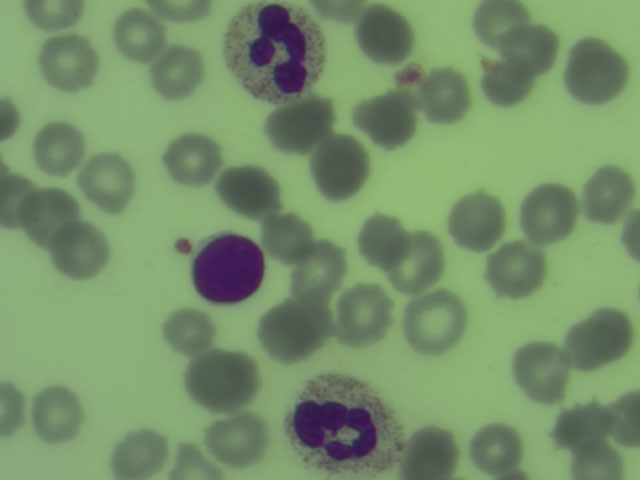Platelets: (392, 62, 428, 91), (168, 233, 196, 259)
RBC: (448, 192, 506, 250), (353, 5, 411, 63), (415, 68, 473, 126), (353, 90, 411, 148), (553, 394, 611, 452), (571, 310, 629, 368), (514, 341, 572, 399), (404, 293, 462, 351), (354, 210, 412, 268), (336, 283, 394, 341), (263, 302, 321, 360), (287, 244, 345, 302), (258, 208, 316, 266), (312, 140, 370, 198), (269, 95, 327, 153), (220, 164, 278, 222), (208, 410, 266, 468), (194, 352, 252, 410), (27, 385, 85, 443), (164, 133, 222, 191), (52, 221, 110, 279), (19, 186, 77, 244), (81, 152, 139, 210), (28, 118, 86, 176), (39, 33, 97, 91), (144, 41, 202, 99), (486, 244, 544, 302), (519, 184, 577, 242), (578, 166, 636, 224), (566, 42, 624, 100), (479, 56, 537, 114), (467, 422, 525, 479), (404, 422, 462, 479), (108, 7, 164, 62), (500, 25, 558, 74), (112, 427, 165, 480), (1, 171, 45, 234), (161, 304, 214, 355), (471, 1, 533, 42), (562, 440, 624, 479), (168, 436, 216, 479), (24, 1, 89, 29), (604, 392, 640, 442), (1, 376, 26, 446)
WBC: (289, 372, 389, 478), (230, 3, 323, 101), (194, 231, 268, 305)
